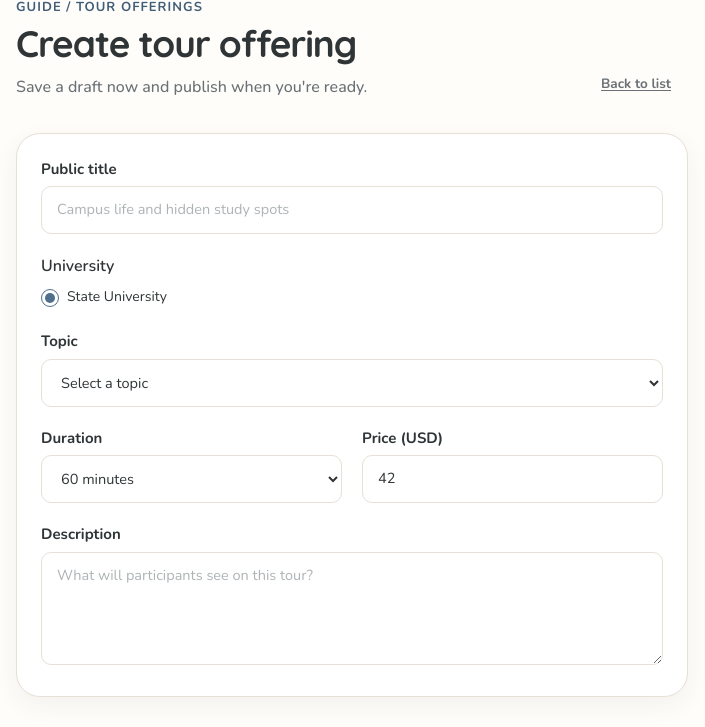
Test: CreateOfferingForm › rejects out-of-range prices before submitting
In the field labelled "Public title": (352,210) [41,186,663,234], type "Campus walk"
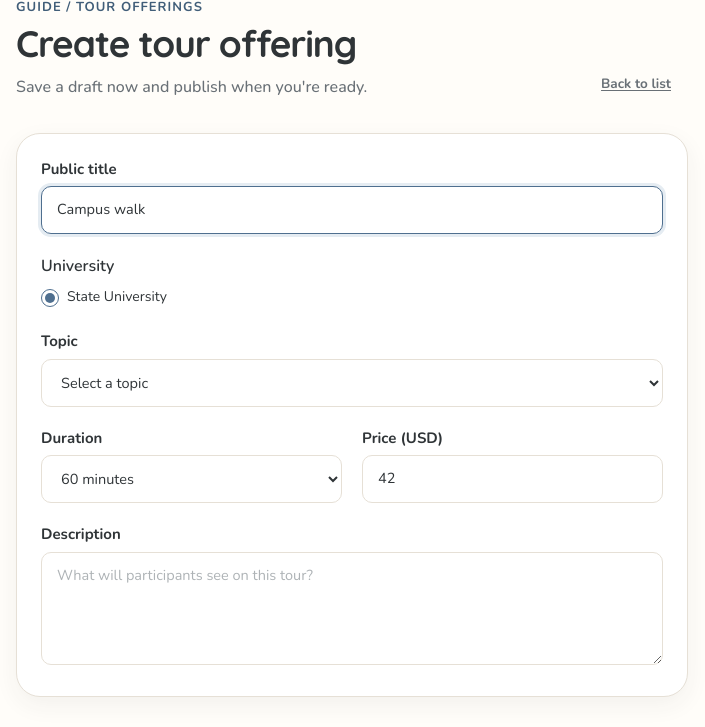
Select "General campus" in the dropdown labelled "Topic": (352,383) [41,359,663,407]
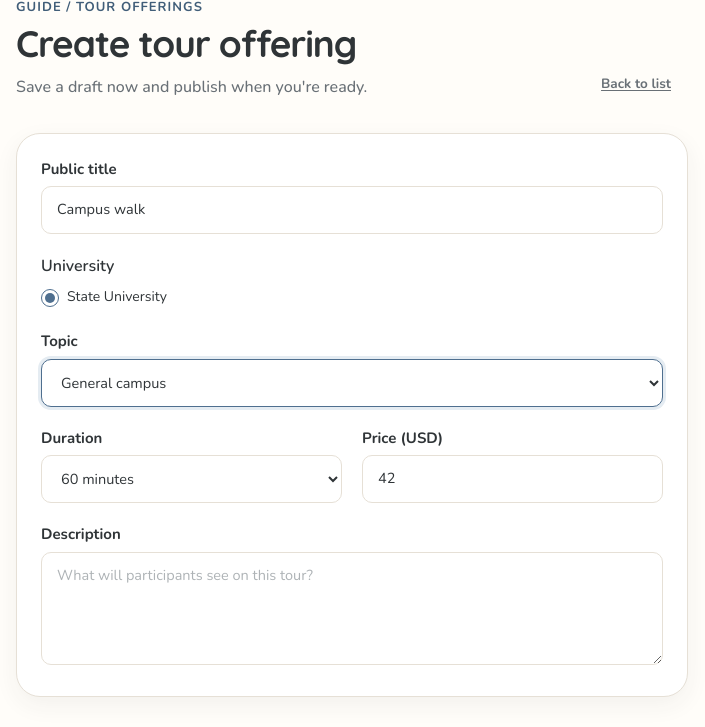
Replace the text in the number field labelled "Price (USD)" with "10": (512,479) [362,455,663,503]
(page scrolled)
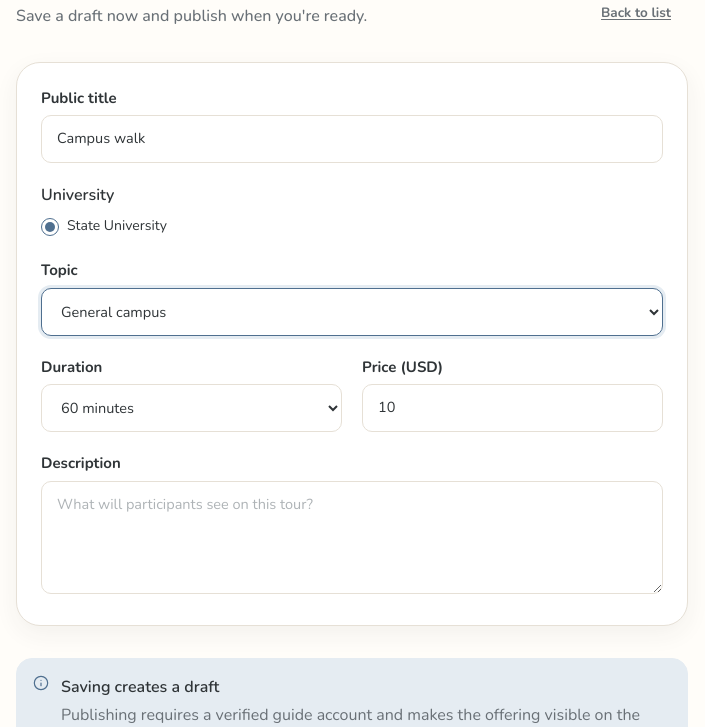
Submit the form named "Save draft"
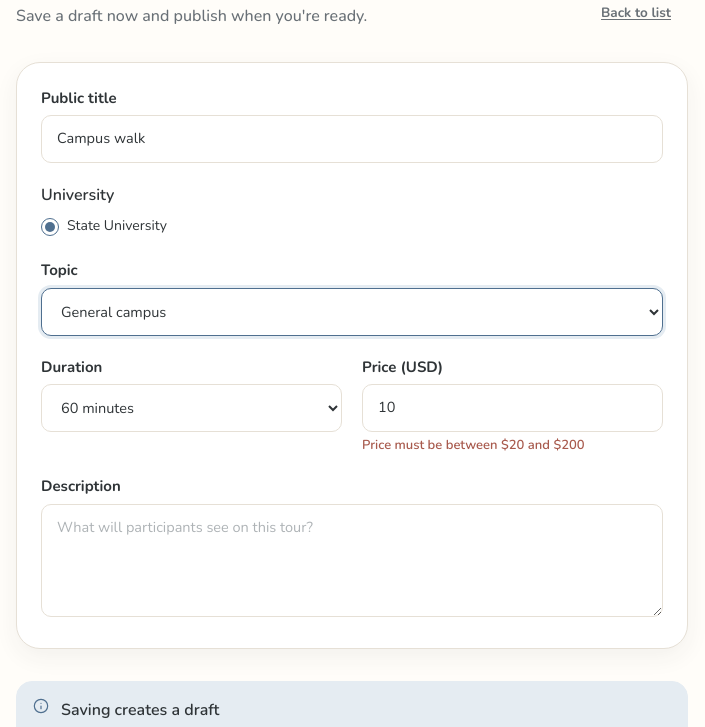
Result: the text "Price must be between $20 and $200" is shown at [362,436,585,454]
